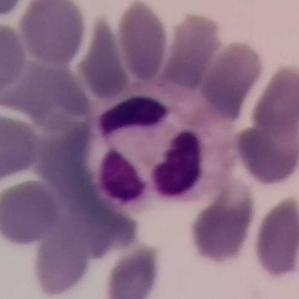Neutrophil: (83, 75, 238, 217)
RBC: (185, 176, 259, 267), (6, 56, 91, 131), (29, 213, 97, 299), (198, 38, 267, 119), (231, 104, 298, 186), (160, 10, 225, 93), (76, 15, 132, 102), (17, 0, 89, 66), (115, 0, 170, 83), (250, 192, 299, 282), (0, 177, 62, 248), (247, 60, 299, 137), (101, 240, 164, 299), (0, 110, 41, 185), (0, 20, 28, 96), (0, 0, 28, 20)
